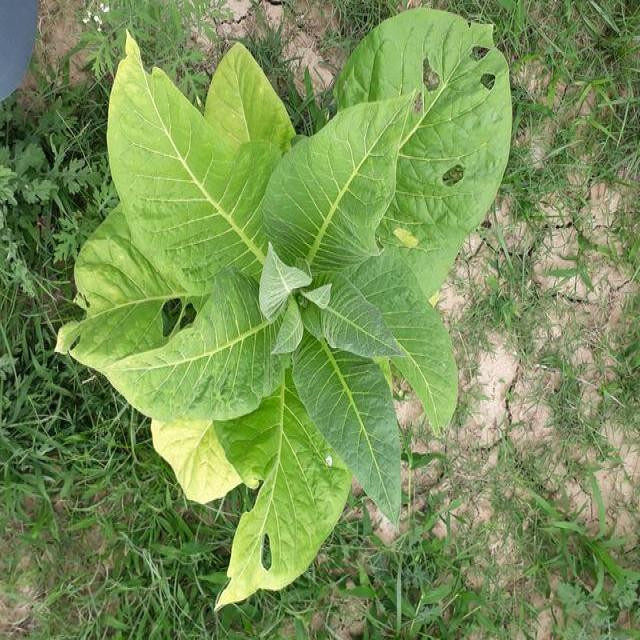crop: (84, 29, 522, 600)
